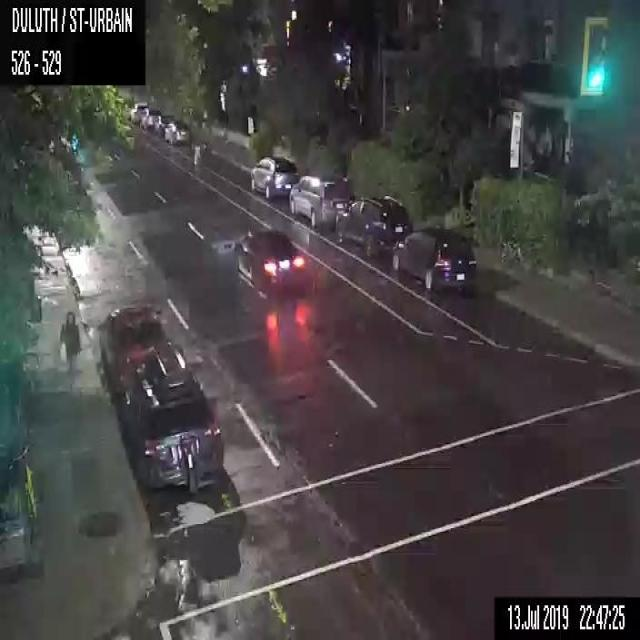pedestrian: (57, 309, 81, 372)
vehicle: (120, 346, 226, 493), (96, 306, 175, 399), (394, 226, 480, 291), (337, 195, 414, 258), (232, 230, 306, 290), (288, 175, 353, 228), (252, 154, 300, 196), (164, 120, 189, 142), (154, 114, 176, 136), (140, 108, 161, 129), (130, 101, 148, 124)
